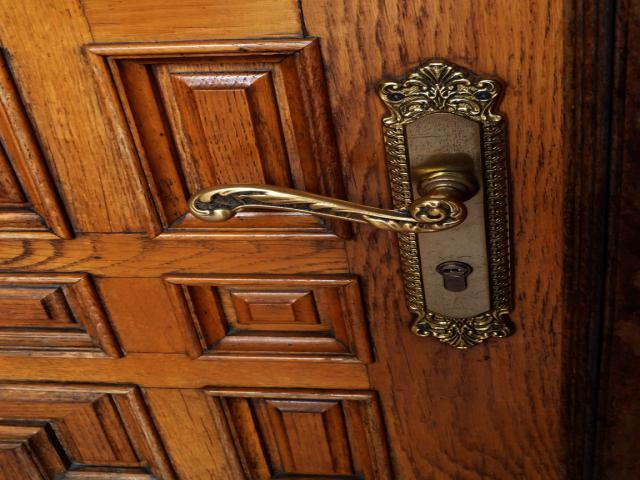Door-handle: (188, 58, 513, 349)
